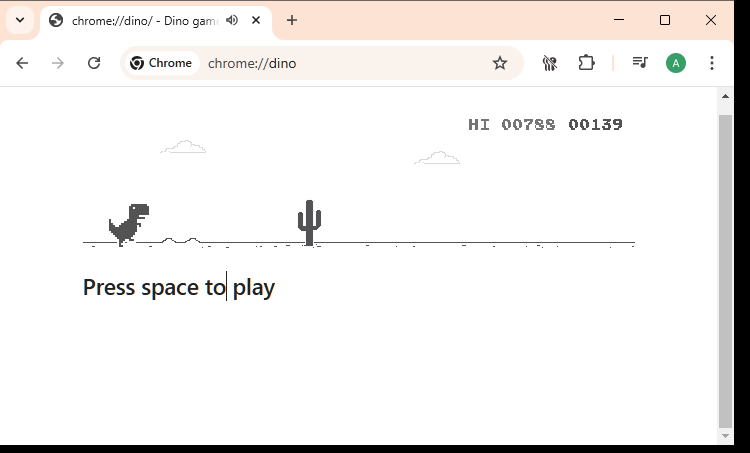cactus: (297, 199, 322, 247)
dino: (107, 202, 151, 246)
